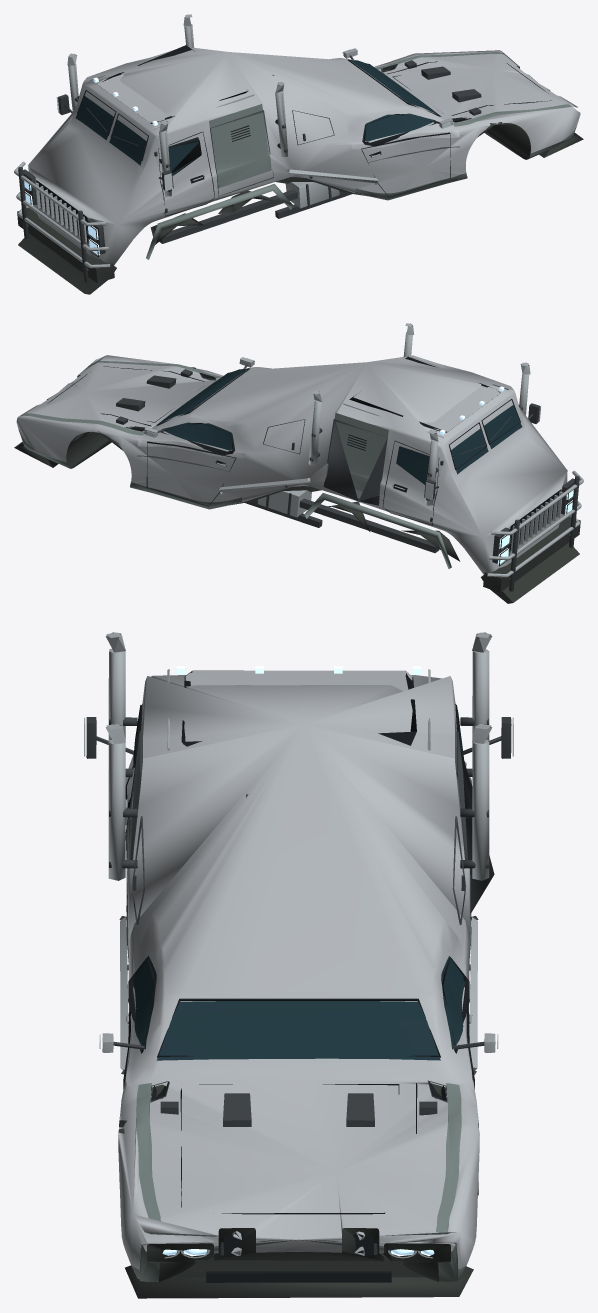
File: blackjack_blueprint_lod1.glb
The picture shows the model from 3 angles, top to bottom: view 1: azimuth 30°, elevation 25°; view 2: azimuth 150°, elevation 25°; view 3: azimuth 270°, elevation 25°; orthographic projection. The views are drawn at different scales.
Parts seen in each view (by area): view 1: Body_BlueprintShell.002__Channel1, Body_BlueprintShell.002__Channel2, Armor_RuggedBumper.002__Channel0, Armor_RuggedAngledSkid.002__Channel0, Body_BlueprintShell.002__Channel0, Chassis_Frame_0.002__Channel0, Body_FenderFold_1.002__Channel0, Glass_CoupeSide_1.002__Channel0, Roof_ArmoredAccessHatch.002__Channel0, Glass_TruckFront_1.002__Channel0, Glass_TruckFront_-1.002__Channel0, Drivetrain_Tank_1.002__Channel0 (+13 smaller); view 2: Body_BlueprintShell.002__Channel1, Body_BlueprintShell.002__Channel2, Armor_EquipmentPlate_-1.002__Channel0, Armor_RuggedBumper.002__Channel0, Armor_RuggedAngledSkid.002__Channel0, Chassis_Frame_-0.002__Channel0, Body_BlueprintShell.002__Channel0, Body_FenderFold_-1.002__Channel0, Glass_CoupeSide_-1.002__Channel0, Roof_ArmoredAccessHatch.002__Channel0, Glass_TruckFront_-1.002__Channel0, Glass_TruckFront_1.002__Channel0 (+13 smaller); view 3: Body_BlueprintShell.002__Channel1, Glass_CoupeWindshield.002__Channel0, Armor_CoupeLayeredAirDam.002__Channel0, Body_BlueprintShell.002__Channel2, Body_BlueprintShell.002__Channel0, Roof_ArmoredAccessHatch.002__Channel0, Exhaust_Stack_-1_472.002__Channel0, Exhaust_Stack_1_472.002__Channel0, Grille_CoupeIntake.002__Channel0, Armor_EquipmentPlate_-1.002__Channel0, Exhaust_Stack_-1_348.002__Channel0, Glass_CoupeSide_-1.002__Channel0 (+8 smaller).
Boxes of the visible parts, box(x1,y1,x2,y2) form: Body_BlueprintShell.002__Channel1: box(28, 47, 580, 265); Body_BlueprintShell.002__Channel2: box(209, 52, 577, 200); Armor_RuggedBumper.002__Channel0: box(17, 207, 114, 283); Armor_RuggedAngledSkid.002__Channel0: box(18, 233, 116, 294); Body_BlueprintShell.002__Channel0: box(36, 66, 549, 243); Chassis_Frame_0.002__Channel0: box(159, 189, 297, 243); Body_FenderFold_1.002__Channel0: box(146, 183, 293, 259); Glass_CoupeSide_1.002__Channel0: box(363, 113, 435, 141); Roof_ArmoredAccessHatch.002__Channel0: box(97, 74, 169, 122); Glass_TruckFront_1.002__Channel0: box(109, 119, 146, 165); Glass_TruckFront_-1.002__Channel0: box(75, 95, 113, 140); Drivetrain_Tank_1.002__Channel0: box(285, 182, 339, 208); Body_BlueprintShell.002__Channel1: box(16, 355, 567, 574); Body_BlueprintShell.002__Channel2: box(20, 361, 388, 509); Armor_EquipmentPlate_-1.002__Channel0: box(323, 419, 387, 505); Armor_RuggedBumper.002__Channel0: box(483, 516, 580, 592); Armor_RuggedAngledSkid.002__Channel0: box(481, 542, 579, 603); Chassis_Frame_-0.002__Channel0: box(299, 498, 439, 552); Body_BlueprintShell.002__Channel0: box(47, 375, 561, 552); Body_FenderFold_-1.002__Channel0: box(304, 493, 451, 568); Glass_CoupeSide_-1.002__Channel0: box(161, 422, 234, 450); Roof_ArmoredAccessHatch.002__Channel0: box(422, 386, 499, 431); Glass_TruckFront_-1.002__Channel0: box(451, 428, 488, 474); Glass_TruckFront_1.002__Channel0: box(484, 405, 522, 448); Body_BlueprintShell.002__Channel1: box(118, 675, 479, 1269); Glass_CoupeWindshield.002__Channel0: box(156, 1001, 440, 1060); Armor_CoupeLayeredAirDam.002__Channel0: box(125, 1257, 473, 1298); Body_BlueprintShell.002__Channel2: box(122, 718, 475, 1282); Body_BlueprintShell.002__Channel0: box(118, 1083, 478, 1281); Roof_ArmoredAccessHatch.002__Channel0: box(185, 670, 412, 691); Exhaust_Stack_-1_472.002__Channel0: box(472, 742, 489, 880); Exhaust_Stack_1_472.002__Channel0: box(108, 741, 125, 880); Grille_CoupeIntake.002__Channel0: box(206, 1271, 391, 1282); Armor_EquipmentPlate_-1.002__Channel0: box(456, 731, 494, 913); Exhaust_Stack_-1_348.002__Channel0: box(472, 650, 489, 786); Glass_CoupeSide_-1.002__Channel0: box(441, 956, 464, 1049).
Bounding box in the file's own units: 2.15 × 0.7355 × 0.8083.
